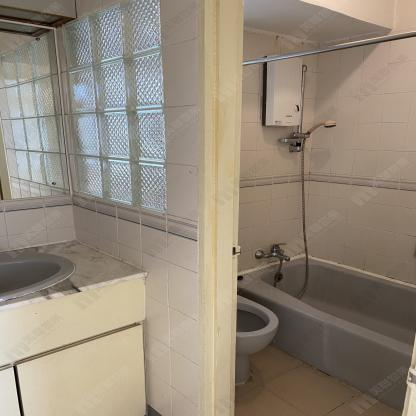Bathtub: (237, 256, 416, 412)
Toilet: (235, 295, 281, 385)
Toilet Sink: (0, 250, 77, 304)
Water Heater: (261, 54, 305, 128)
